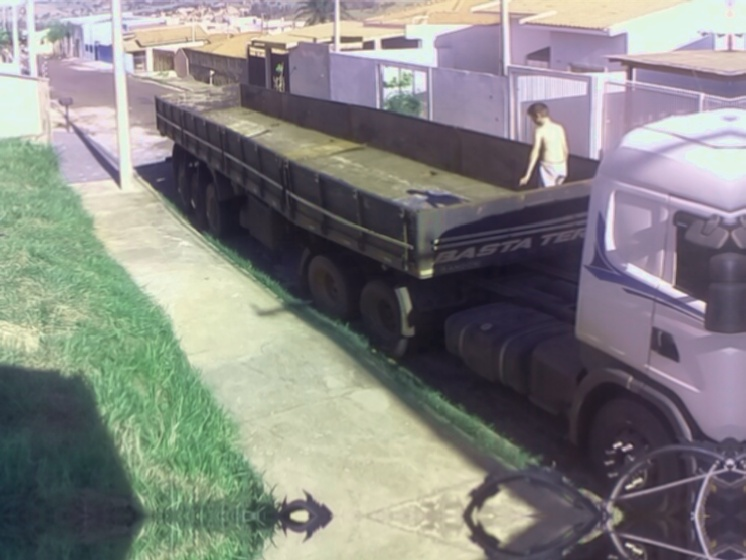person: (517, 99, 580, 195)
